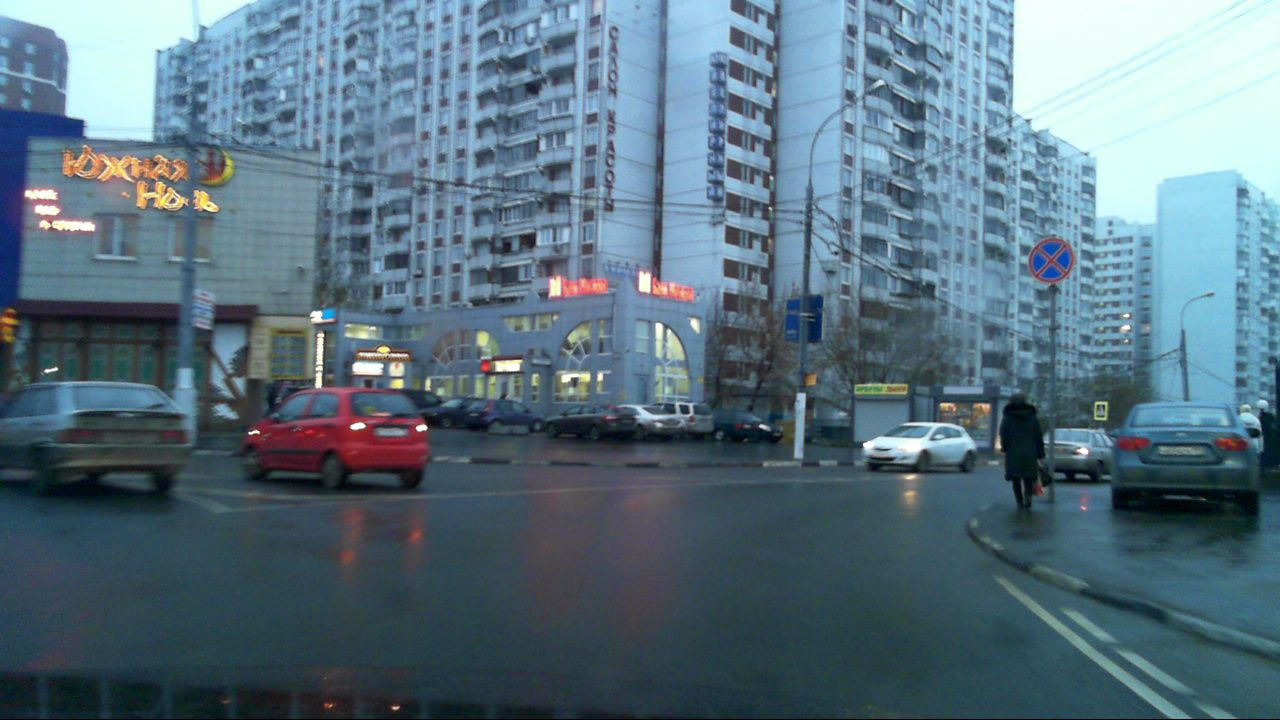No Parking: (1027, 237, 1075, 282)
